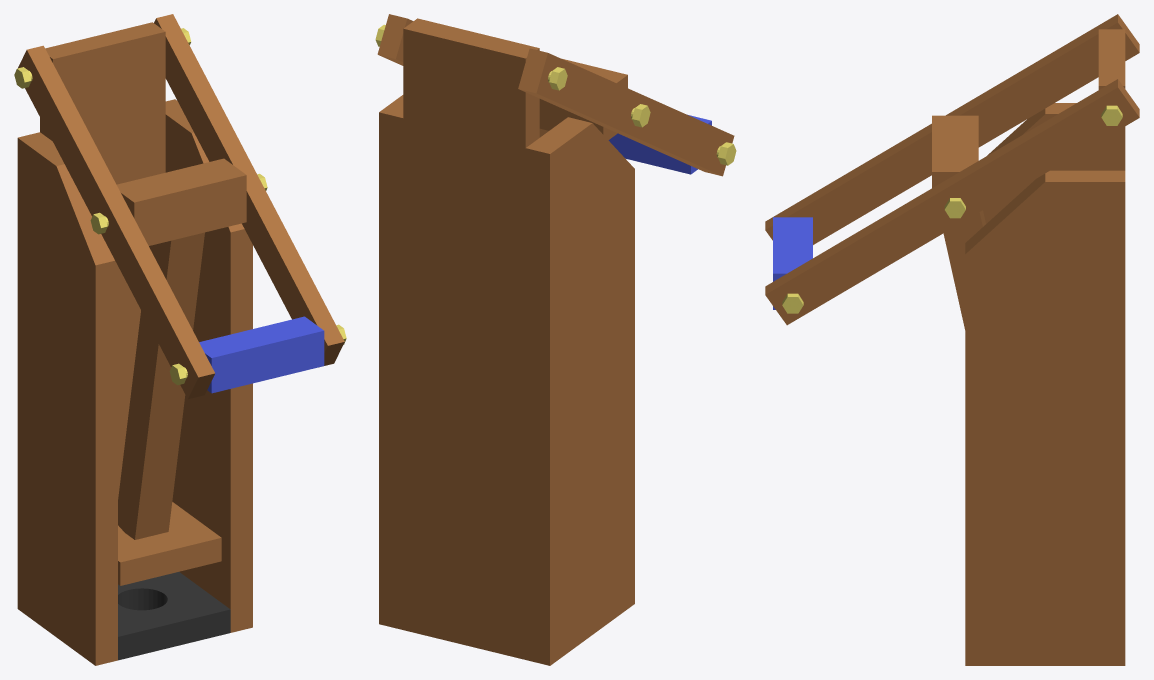
Rendered from alat-press.glb.
3 views of the same model, side by side, from view 1: azimuth 30°, elevation 25°; view 2: azimuth 150°, elevation 25°; view 3: azimuth 270°, elevation 25° (orthographic). The views are drawn at different scales.
Visible parts, largest first — view 1: Papan_Samping_Kiri, Papan_Samping_Kanan, Papan_Belakang, Tuas_Kiri, Batang_Pendorong, Tuas_Kanan, Kepala_Pendorong, Alas_Berlubang, Pegangan_Biru, Kaki_Pendorong; view 2: Papan_Belakang, Papan_Samping_Kiri, Papan_Samping_Kanan, Tuas_Kiri, Pegangan_Biru, Kepala_Pendorong, Tuas_Kanan; view 3: Papan_Samping_Kanan, Tuas_Kanan, Tuas_Kiri, Kepala_Pendorong, Papan_Belakang, Pegangan_Biru, Papan_Samping_Kiri, Batang_Pendorong.
Boxes of the visible parts, left/top/right/bottom form: Papan_Samping_Kiri: left=17, top=132, right=117, bottom=665; Papan_Samping_Kanan: left=165, top=99, right=252, bottom=632; Papan_Belakang: left=40, top=22, right=165, bottom=498; Tuas_Kiri: left=18, top=45, right=215, bottom=399; Batang_Pendorong: left=118, top=232, right=204, bottom=539; Tuas_Kanan: left=154, top=14, right=344, bottom=365; Kepala_Pendorong: left=117, top=158, right=246, bottom=245; Alas_Berlubang: left=118, top=572, right=230, bottom=660; Pegangan_Biru: left=199, top=316, right=324, bottom=393; Kaki_Pendorong: left=118, top=502, right=221, bottom=585; Papan_Belakang: left=403, top=18, right=539, bottom=659; Papan_Samping_Kiri: left=525, top=117, right=634, bottom=665; Papan_Samping_Kanan: left=379, top=95, right=403, bottom=629; Tuas_Kiri: left=518, top=48, right=734, bottom=176; Pegangan_Biru: left=608, top=114, right=711, bottom=174; Kepala_Pendorong: left=539, top=59, right=627, bottom=139; Tuas_Kanan: left=377, top=14, right=413, bottom=65; Papan_Samping_Kanan: left=965, top=170, right=1125, bottom=665; Tuas_Kanan: left=765, top=79, right=1139, bottom=325; Tuas_Kiri: left=765, top=14, right=1139, bottom=244; Kepala_Pendorong: left=932, top=115, right=978, bottom=220; Papan_Belakang: left=1098, top=29, right=1125, bottom=170; Pegangan_Biru: left=773, top=217, right=812, bottom=309; Papan_Samping_Kiri: left=983, top=103, right=1098, bottom=223; Batang_Pendorong: left=943, top=210, right=985, bottom=329.
Size of the model in its own units: 0.148 by 0.4757 by 0.2805.
